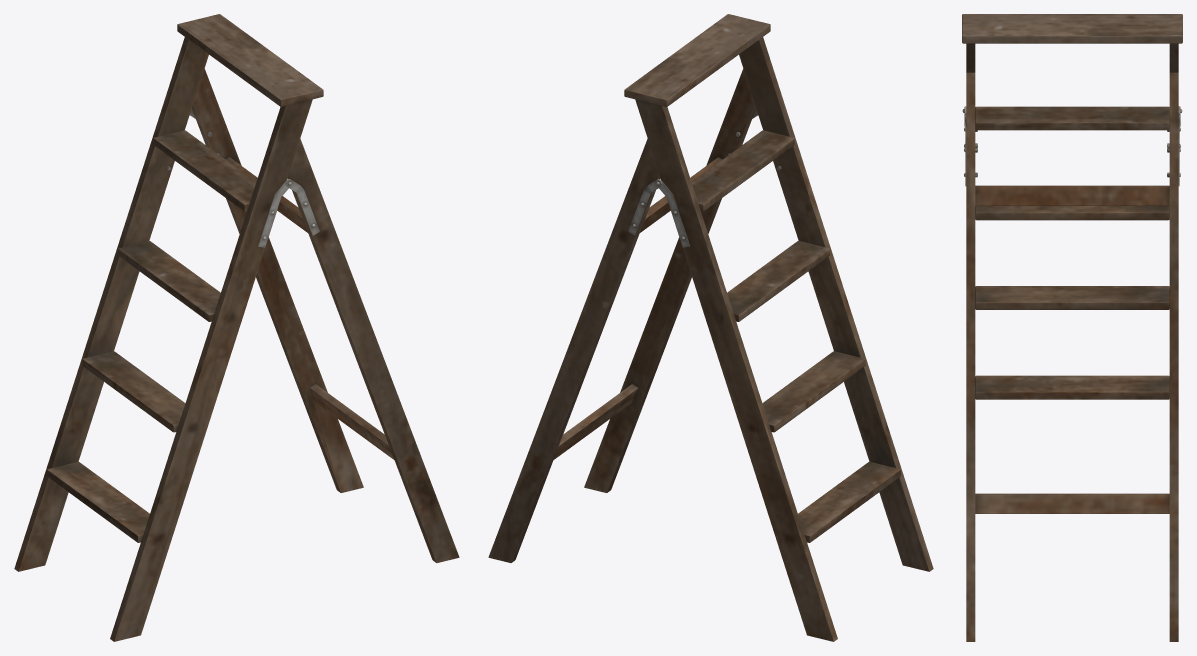
The model's file is ladder.glb.
3 views of the same model, side by side, from view 1: azimuth 30°, elevation 25°; view 2: azimuth 150°, elevation 25°; view 3: azimuth 270°, elevation 25° (orthographic). The views are drawn at different scales.
Parts seen in each view (by area): view 1: mesh; view 2: mesh; view 3: mesh.
Boxes of the visible parts, <box> form: mesh: <box>14,14,459,641</box>; mesh: <box>488,14,933,641</box>; mesh: <box>962,14,1182,641</box>.
Size of the model in its own units: 0.9591 by 1.33 by 0.5.
1 material, 1 textured.
